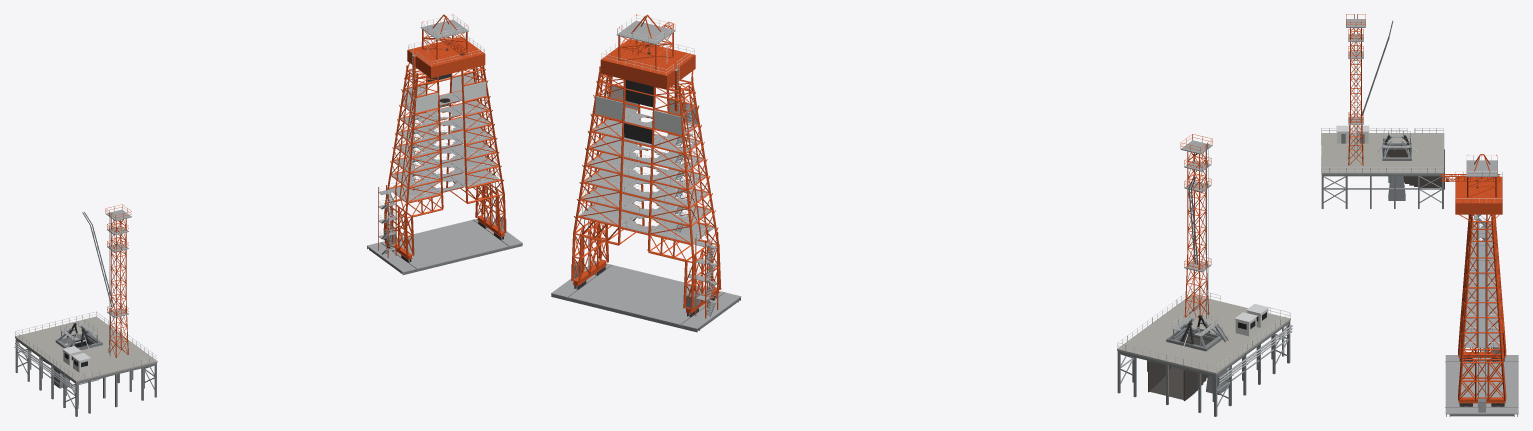
Rendered from 1965-10-pad.lod2.glb.
3 views of the same model, side by side, from view 1: azimuth 30°, elevation 25°; view 2: azimuth 150°, elevation 25°; view 3: azimuth 270°, elevation 25° (orthographic). The views are drawn at different scales.
Visible parts, largest first — view 1: ServiceStructure_Tower_Orange, ServiceStructure_Tower_Deck, LaunchStand_Concrete, TransferTable_Deck, ServiceStructure_Tower_OrangeHead, LaunchStand_GreyFrame, AgenaUmbilicalTower_Orange, ServiceStructure_Tower_WhiteRails, ServiceStructure_Tower_AluminiumCleanroom, LaunchStand_GalvRail, AgenaUmbilicalTower_Deck, ServiceStructure_Tower_GreyStair (+2 smaller); view 2: ServiceStructure_Tower_Orange, ServiceStructure_Tower_Deck, LaunchStand_Concrete, TransferTable_Deck, ServiceStructure_Tower_OrangeHead, LaunchStand_GreyFrame, AgenaUmbilicalTower_Orange, ServiceStructure_Tower_WhiteRails, ServiceStructure_Tower_AluminiumCleanroom, ServiceStructure_Tower_BlackScreen, FlameDeflector_ScorchedWalls, AgenaUmbilicalTower_Deck (+5 smaller); view 3: ServiceStructure_Tower_Orange, LaunchStand_Concrete, ServiceStructure_Tower_Deck, TransferTable_Deck, ServiceStructure_Tower_OrangeHead, LaunchStand_GreyFrame, AgenaUmbilicalTower_Orange, FlameDeflector_ScorchedWalls, LaunchStand_GalvRail, AgenaUmbilicalTower_Deck, LaunchStand_Grey, ServiceStructure_Tower_WhiteRails (+8 smaller).
Boxes of the visible parts, bbox=[...] form: ServiceStructure_Tower_Orange: bbox=[378, 14, 506, 257]; ServiceStructure_Tower_Deck: bbox=[378, 19, 499, 251]; LaunchStand_Concrete: bbox=[15, 316, 157, 382]; TransferTable_Deck: bbox=[367, 216, 522, 272]; ServiceStructure_Tower_OrangeHead: bbox=[407, 36, 485, 78]; LaunchStand_GreyFrame: bbox=[15, 338, 156, 416]; AgenaUmbilicalTower_Orange: bbox=[105, 204, 131, 357]; ServiceStructure_Tower_WhiteRails: bbox=[389, 15, 499, 199]; ServiceStructure_Tower_AluminiumCleanroom: bbox=[402, 73, 486, 112]; LaunchStand_GalvRail: bbox=[15, 311, 156, 378]; AgenaUmbilicalTower_Deck: bbox=[106, 209, 131, 317]; ServiceStructure_Tower_GreyStair: bbox=[381, 91, 418, 254]; ServiceStructure_Tower_Orange: bbox=[571, 14, 721, 318]; ServiceStructure_Tower_Deck: bbox=[579, 21, 717, 303]; LaunchStand_Concrete: bbox=[1117, 294, 1290, 374]; TransferTable_Deck: bbox=[551, 260, 741, 329]; ServiceStructure_Tower_OrangeHead: bbox=[600, 39, 695, 89]; LaunchStand_GreyFrame: bbox=[1117, 321, 1290, 416]; AgenaUmbilicalTower_Orange: bbox=[1180, 134, 1212, 319]; ServiceStructure_Tower_WhiteRails: bbox=[579, 15, 713, 240]; ServiceStructure_Tower_AluminiumCleanroom: bbox=[595, 86, 697, 134]; ServiceStructure_Tower_BlackScreen: bbox=[624, 80, 653, 143]; FlameDeflector_ScorchedWalls: bbox=[1148, 334, 1211, 401]; AgenaUmbilicalTower_Deck: bbox=[1180, 140, 1212, 272]; ServiceStructure_Tower_Orange: bbox=[1441, 154, 1506, 400]; LaunchStand_Concrete: bbox=[1321, 133, 1444, 174]; ServiceStructure_Tower_Deck: bbox=[1464, 160, 1499, 351]; TransferTable_Deck: bbox=[1445, 355, 1518, 414]; ServiceStructure_Tower_OrangeHead: bbox=[1455, 176, 1502, 214]; LaunchStand_GreyFrame: bbox=[1321, 149, 1443, 208]; AgenaUmbilicalTower_Orange: bbox=[1346, 14, 1365, 165]; FlameDeflector_ScorchedWalls: bbox=[1386, 149, 1444, 189]; LaunchStand_GalvRail: bbox=[1321, 128, 1443, 172]; AgenaUmbilicalTower_Deck: bbox=[1346, 19, 1365, 124]; LaunchStand_Grey: bbox=[1360, 134, 1408, 200]; ServiceStructure_Tower_WhiteRails: bbox=[1455, 155, 1502, 346].
Bounding box in the file's own units: 114 × 50.13 × 38.15.
